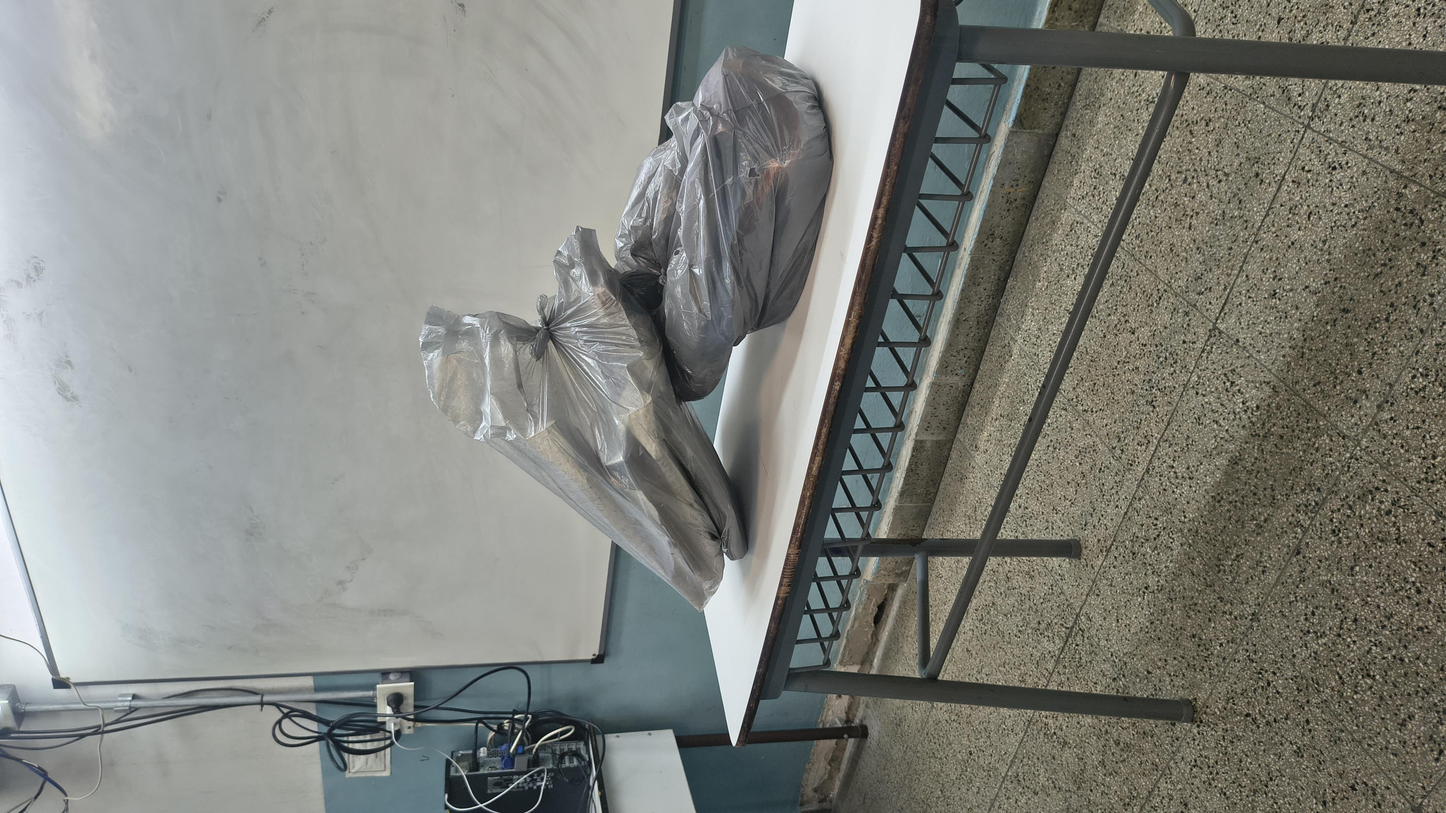Garbage: (358, 220, 1017, 459), (734, 316, 1374, 478)
